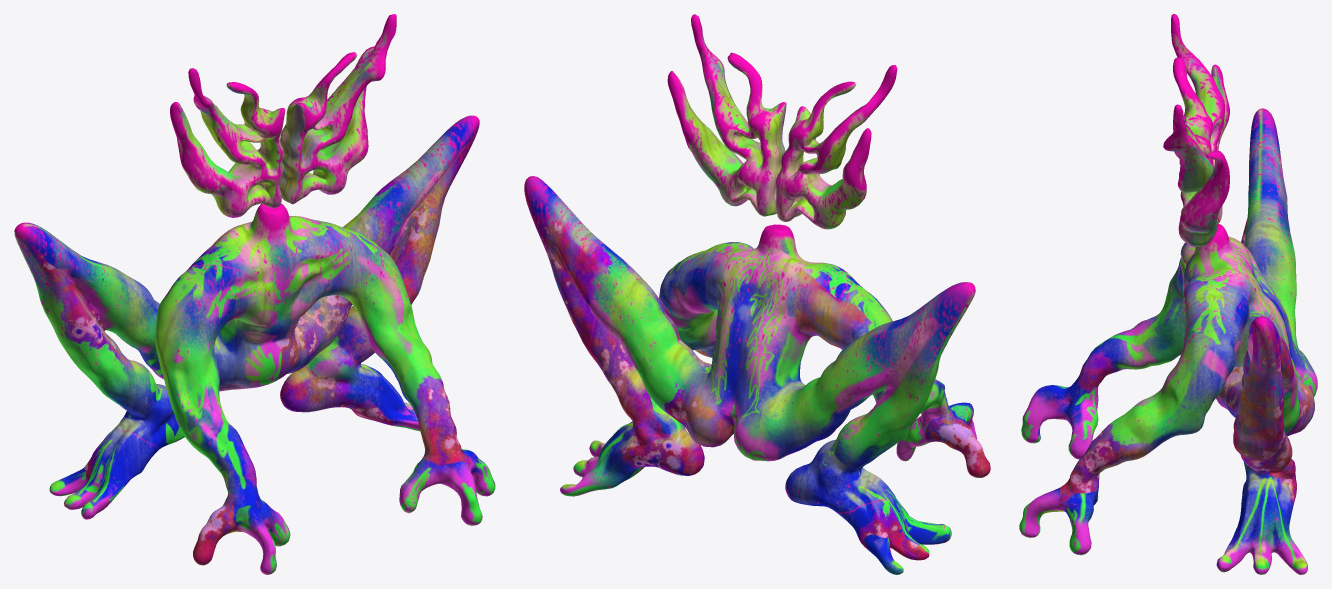
The model's file is shr-frog.glb.
3 views of the same model, side by side, from view 1: azimuth 30°, elevation 25°; view 2: azimuth 150°, elevation 25°; view 3: azimuth 270°, elevation 25° (orthographic). The views are drawn at different scales.
Parts seen in each view (by area): view 1: geometry_0; view 2: geometry_0; view 3: geometry_0.
Part boxes in pixels (<box>): geometry_0: <box>14,14,495,574</box>; geometry_0: <box>524,14,990,574</box>; geometry_0: <box>1019,14,1317,574</box>.
Bounding box in the file's own units: 1 × 0.956 × 0.5883.
Materials: 1 (1 with a texture image).
